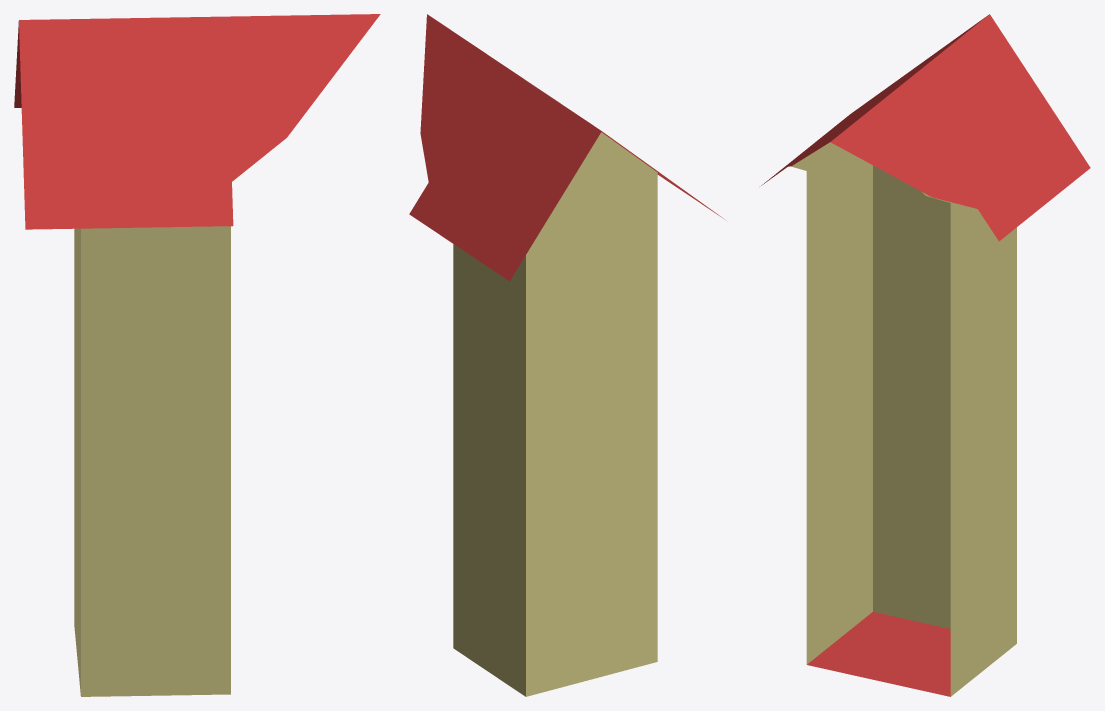
3 renders of one model, left to right at view 1: azimuth 30°, elevation 25°; view 2: azimuth 150°, elevation 25°; view 3: azimuth 270°, elevation 25°, orthographic. The views are drawn at different scales.
Size of the model in its own units: 6.89 by 6.08 by 12.06.
